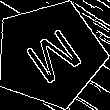M_SE: (15, 20, 85, 88)
